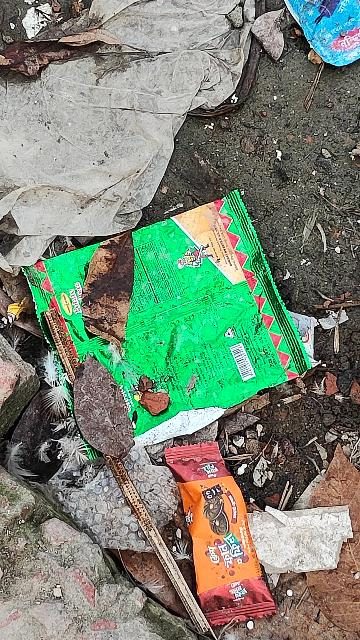packet: (27, 180, 322, 466), (136, 429, 301, 640), (273, 0, 360, 76)
